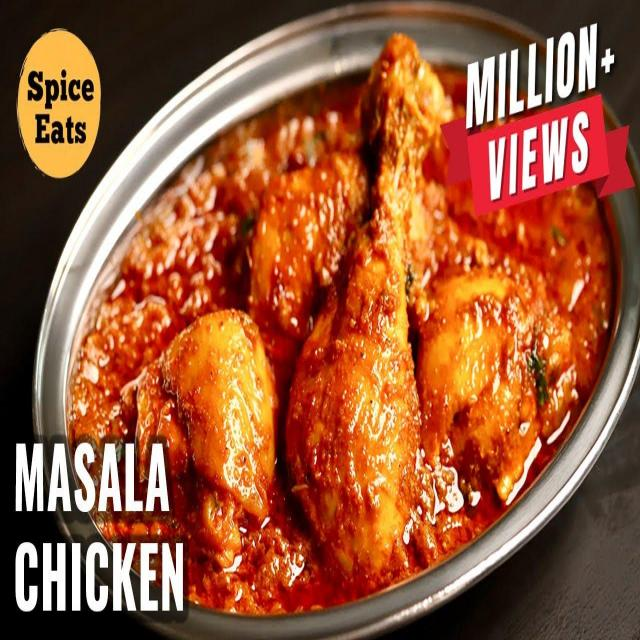chicken: (48, 59, 623, 612)
